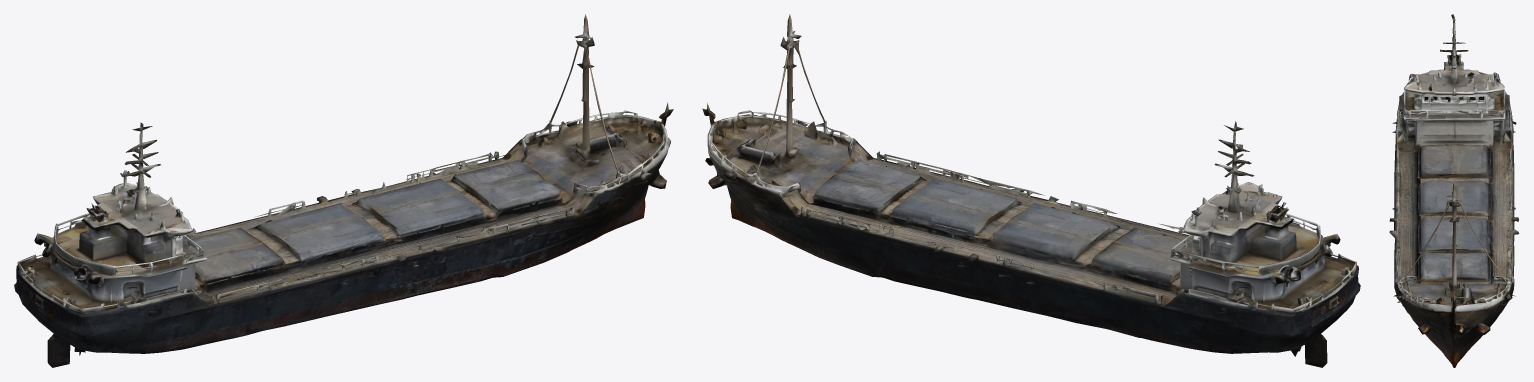
The model's file is pt_ship.glb.
The picture shows the model from 3 angles, left to right: view 1: azimuth 30°, elevation 25°; view 2: azimuth 150°, elevation 25°; view 3: azimuth 270°, elevation 25°; orthographic projection. The views are drawn at different scales.
Parts seen in each view (by area): view 1: tripo_node_5756fa94-a78a-460b-bcb3-392d452c9d06; view 2: tripo_node_5756fa94-a78a-460b-bcb3-392d452c9d06; view 3: tripo_node_5756fa94-a78a-460b-bcb3-392d452c9d06.
Part boxes in pixels (left/top/right/bottom): tripo_node_5756fa94-a78a-460b-bcb3-392d452c9d06: left=14, top=14, right=673, bottom=367; tripo_node_5756fa94-a78a-460b-bcb3-392d452c9d06: left=702, top=14, right=1360, bottom=367; tripo_node_5756fa94-a78a-460b-bcb3-392d452c9d06: left=1389, top=14, right=1519, bottom=367.
Bounding box in the file's own units: 0.983 × 0.332 × 0.2282.
1 material, 1 textured.
